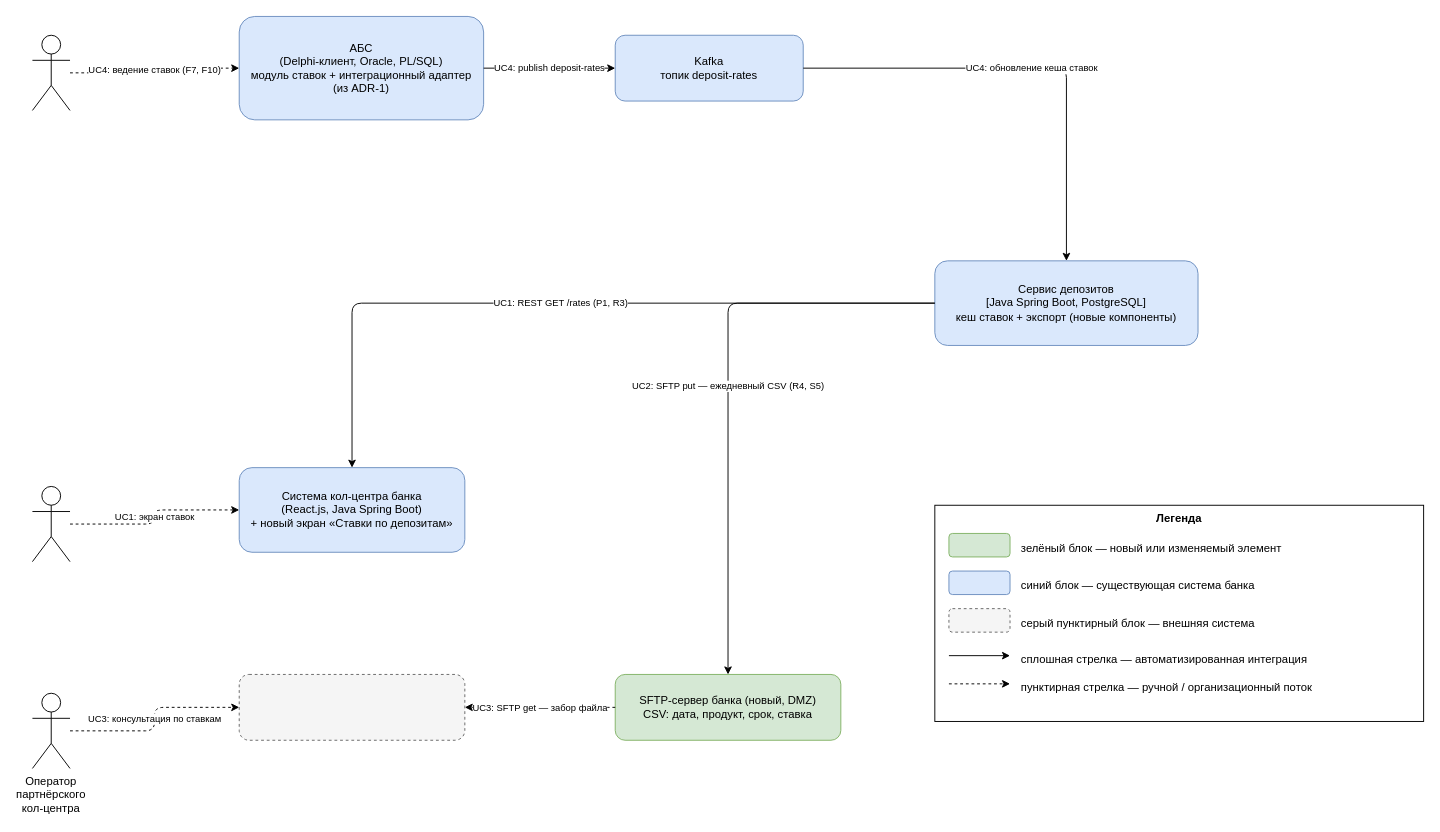
This 1440x832 diagram has some shape labels left out. Each missing label, with the centre of its shape:
Менеджер бэк-офиса депозитов: [50,72]
Оператор кол-центра банка: [50,524]
Система партнёрского кол-центра (внешняя): [351,707]
